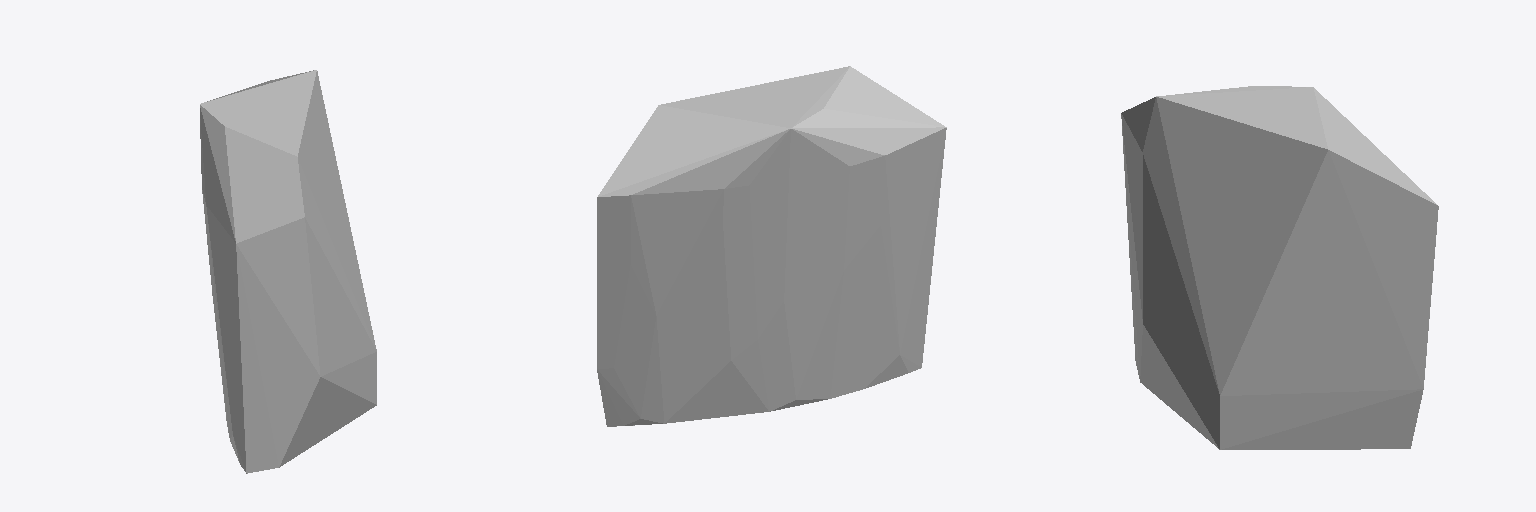
File: trash_bin_collision_10.obj
The picture shows the model from 3 angles: view 1: azimuth 30°, elevation 25°; view 2: azimuth 150°, elevation 25°; view 3: azimuth 270°, elevation 25°; orthographic projection.
Size of the model in its own units: 0.0407 by 0.0585 by 0.0563.